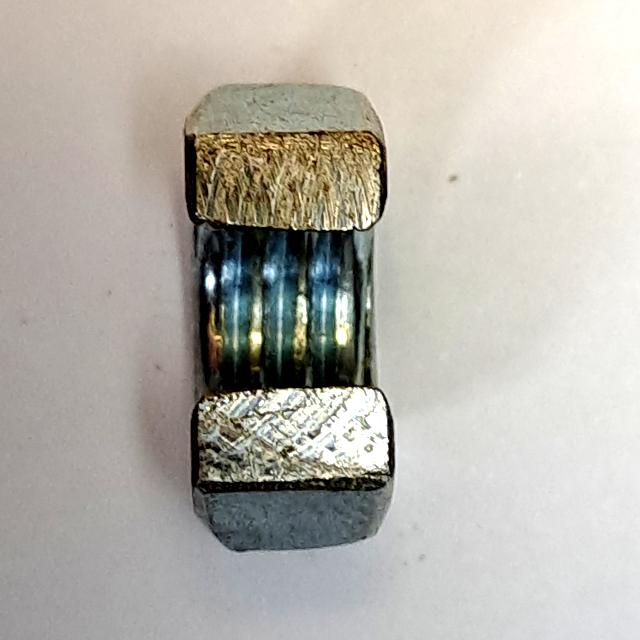Side-Fracture: (166, 72, 415, 567)
